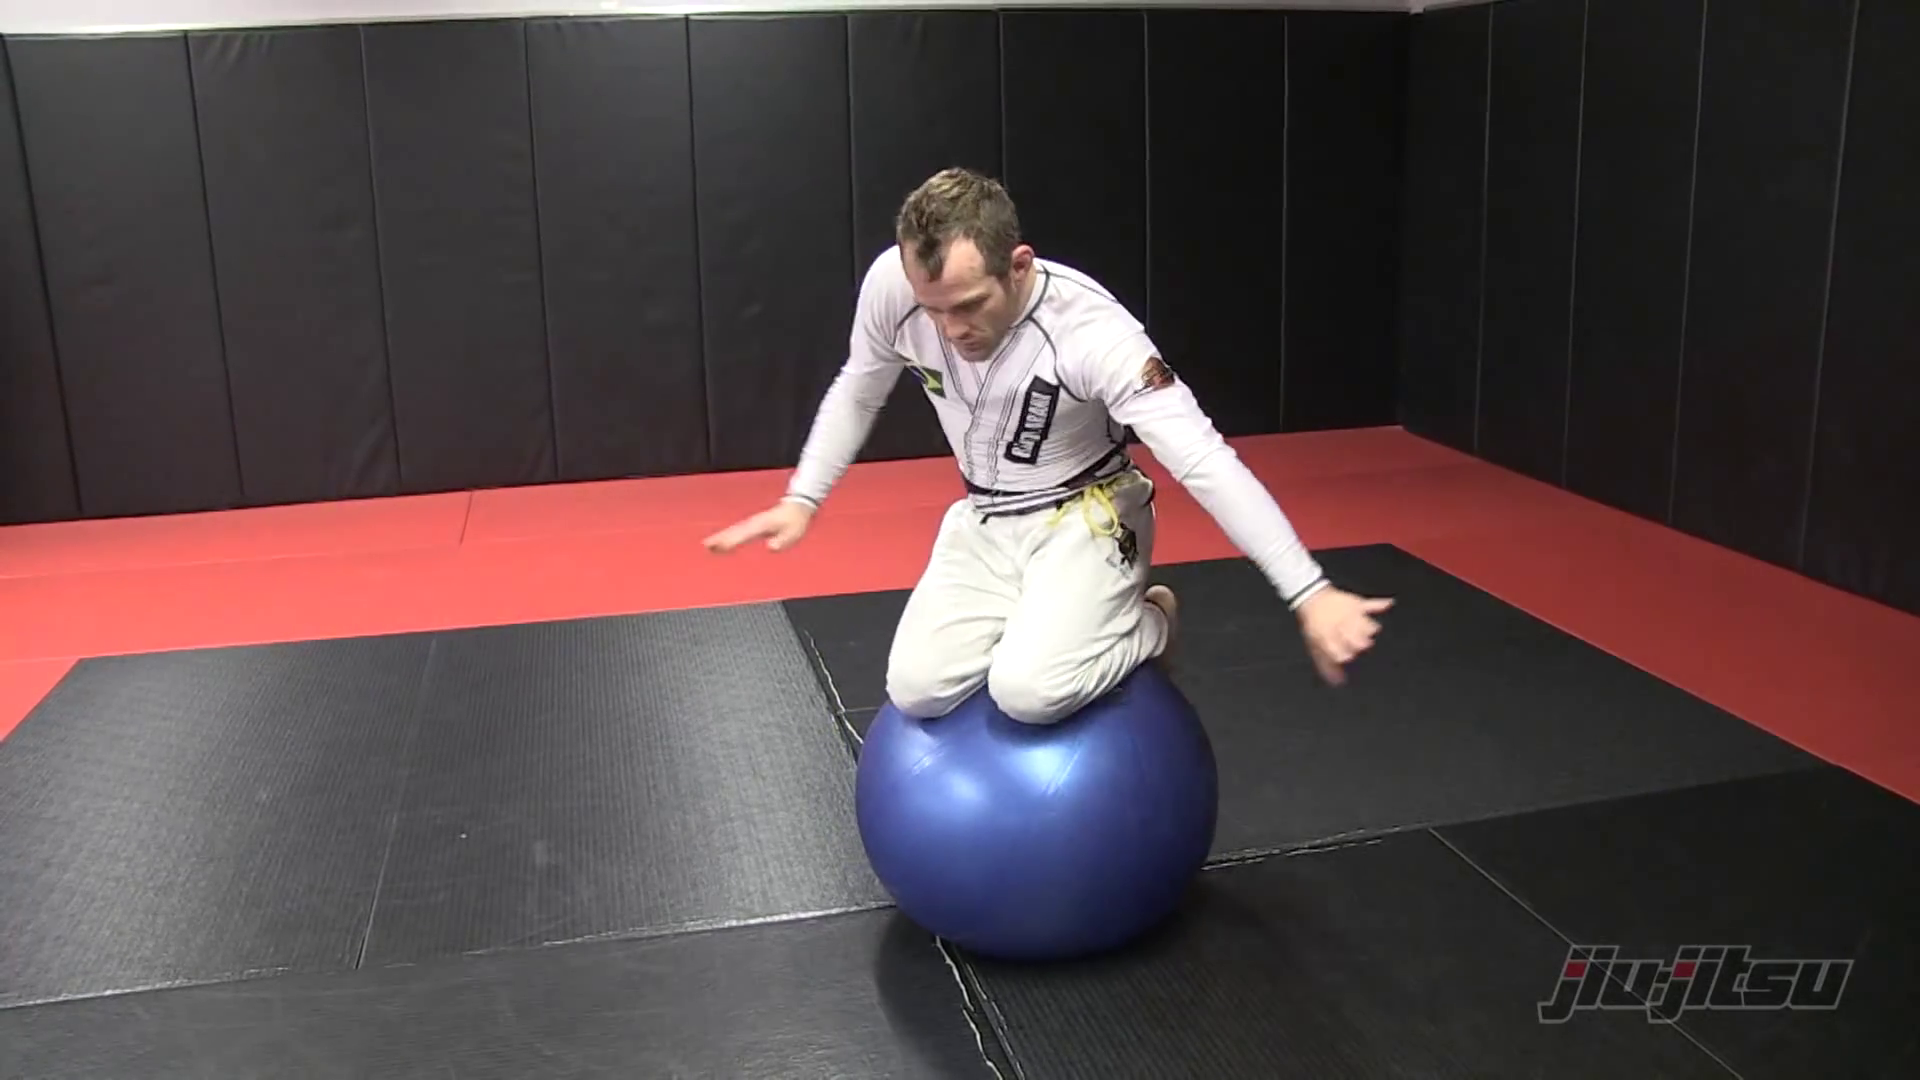yogaball: (843, 651, 1249, 973)
